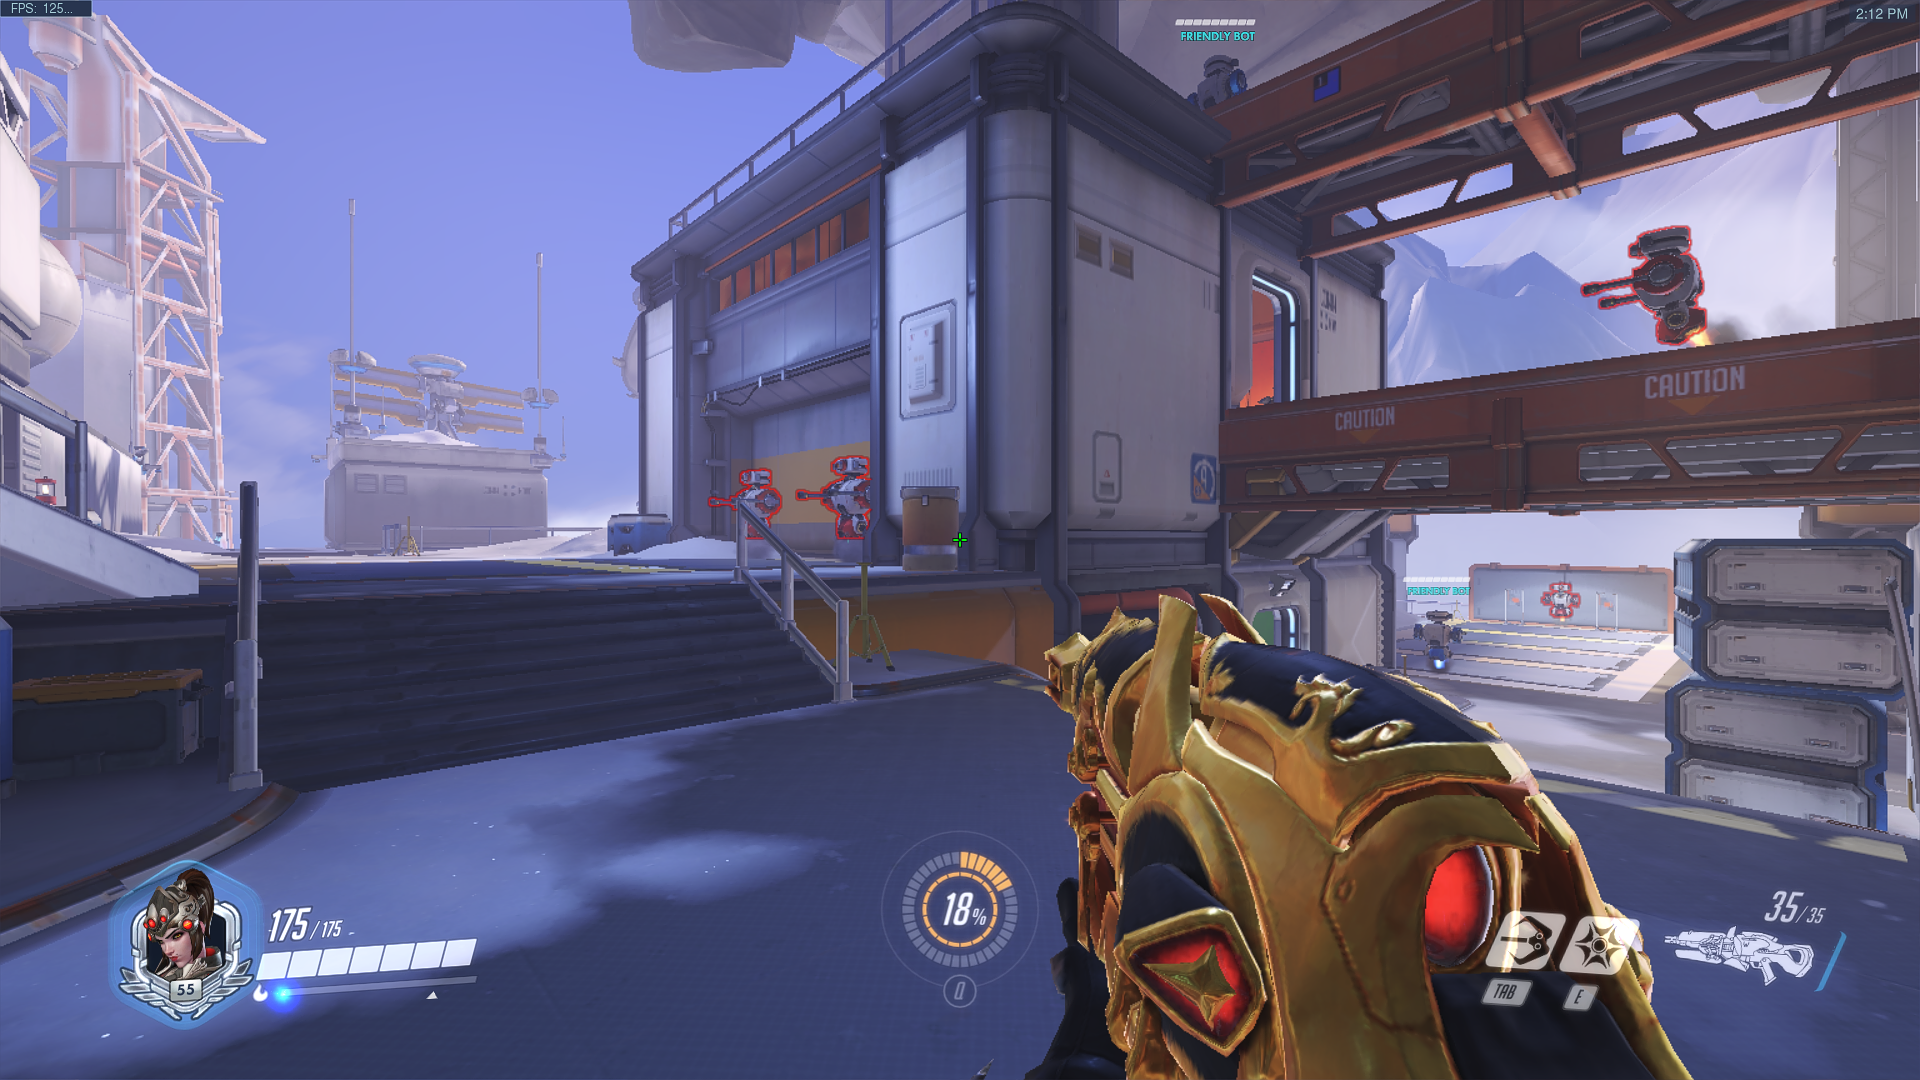head: (1622, 225, 1702, 257), (828, 452, 869, 481), (1193, 52, 1242, 74), (734, 465, 773, 489), (1424, 609, 1453, 626), (1549, 581, 1577, 594)
